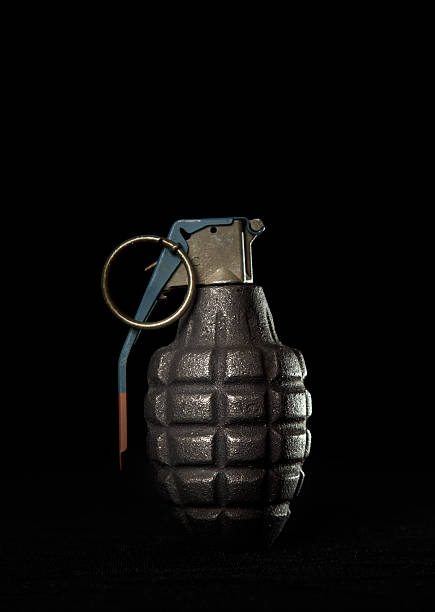e1: (93, 204, 315, 543)
